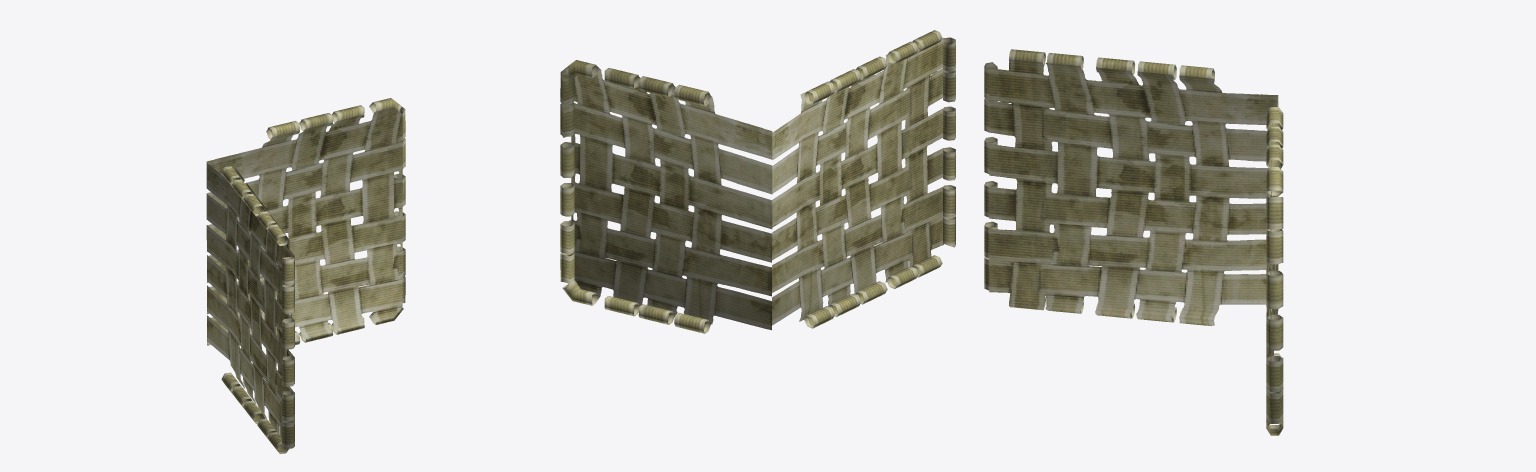
The model's file is furniture_lawn_chair_1_LOD0.obj.
The picture shows the model from 3 angles, left to right: view 1: azimuth 30°, elevation 25°; view 2: azimuth 150°, elevation 25°; view 3: azimuth 270°, elevation 25°; orthographic projection. The views are drawn at different scales.
Visible parts, largest first — view 1: mtl_furniture_lawn_chair_1_cloth, mtl_furniture_lawn_chair_1_metal; view 2: mtl_furniture_lawn_chair_1_cloth, mtl_furniture_lawn_chair_1_metal; view 3: mtl_furniture_lawn_chair_1_cloth, mtl_furniture_lawn_chair_1_metal.
Boxes of the visible parts, x1=… form: mtl_furniture_lawn_chair_1_cloth: x1=206, y1=107, x2=402, y2=449; mtl_furniture_lawn_chair_1_metal: x1=221, y1=98, x2=405, y2=453; mtl_furniture_lawn_chair_1_cloth: x1=571, y1=38, x2=943, y2=330; mtl_furniture_lawn_chair_1_metal: x1=560, y1=30, x2=955, y2=333; mtl_furniture_lawn_chair_1_cloth: x1=989, y1=59, x2=1278, y2=423; mtl_furniture_lawn_chair_1_metal: x1=984, y1=49, x2=1283, y2=435.
Size of the model in its own units: 77.85 by 65.12 by 102.
